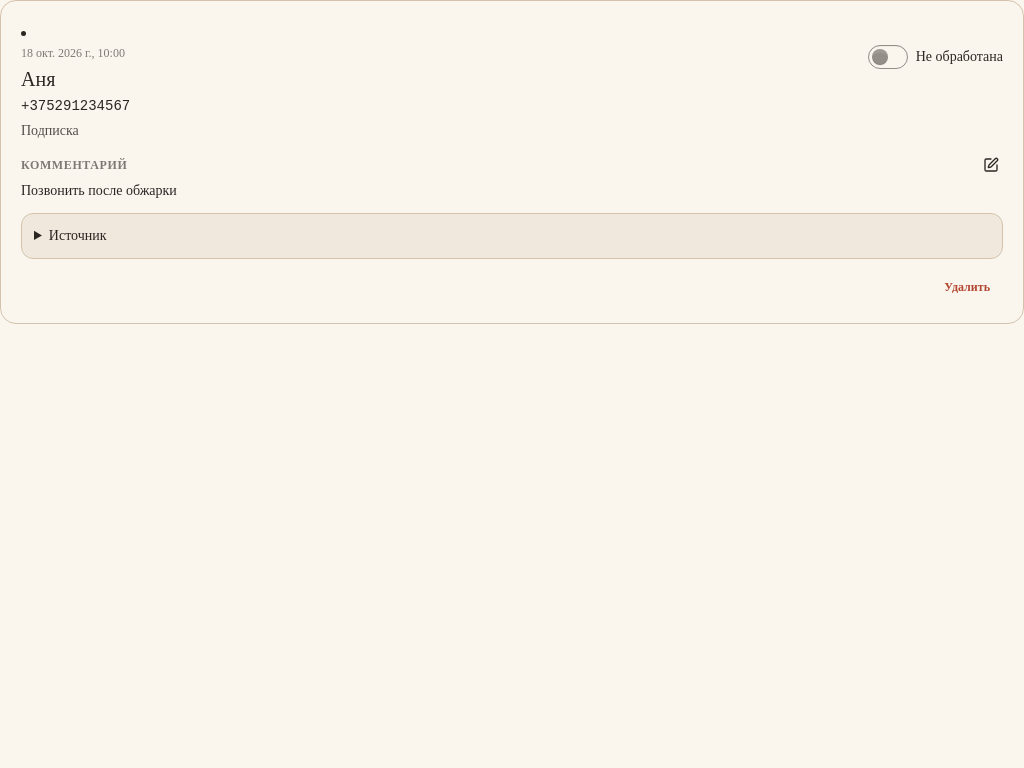
it: LeadCard › saves an edited comment from the modal
Click the button named "Редактировать комментарий" at (991, 165), box [979,153,1003,177]
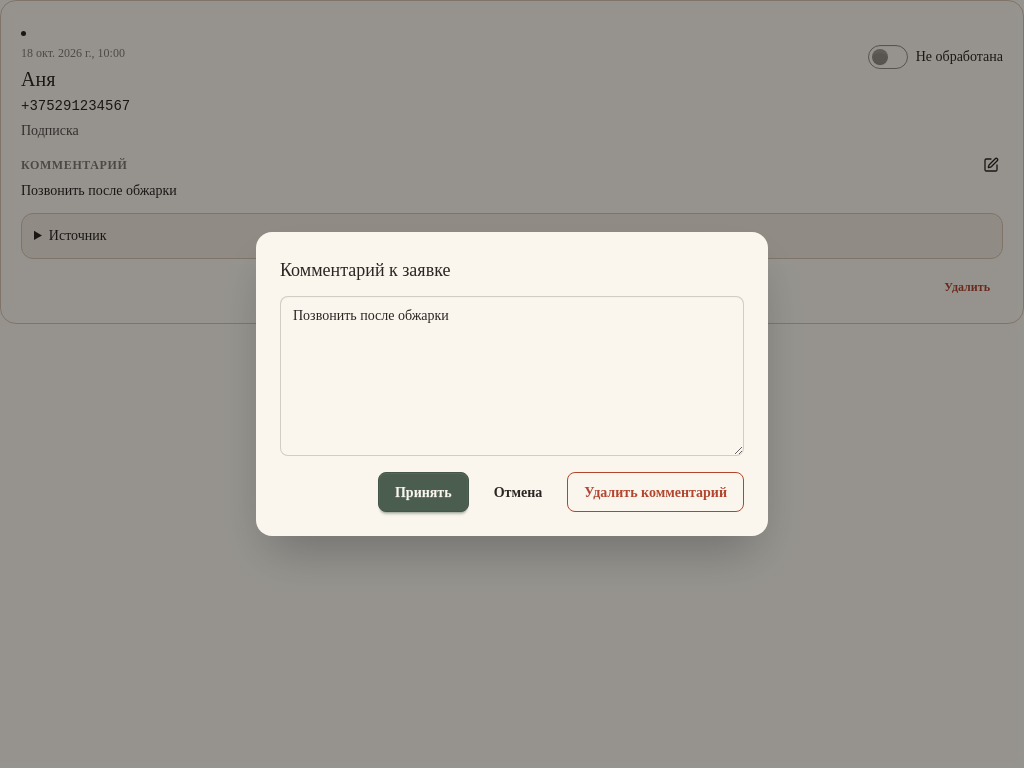
Replace the text in the text box named "Комментарий" with "свежий контакт" at (512, 376), box [280,296,744,456]
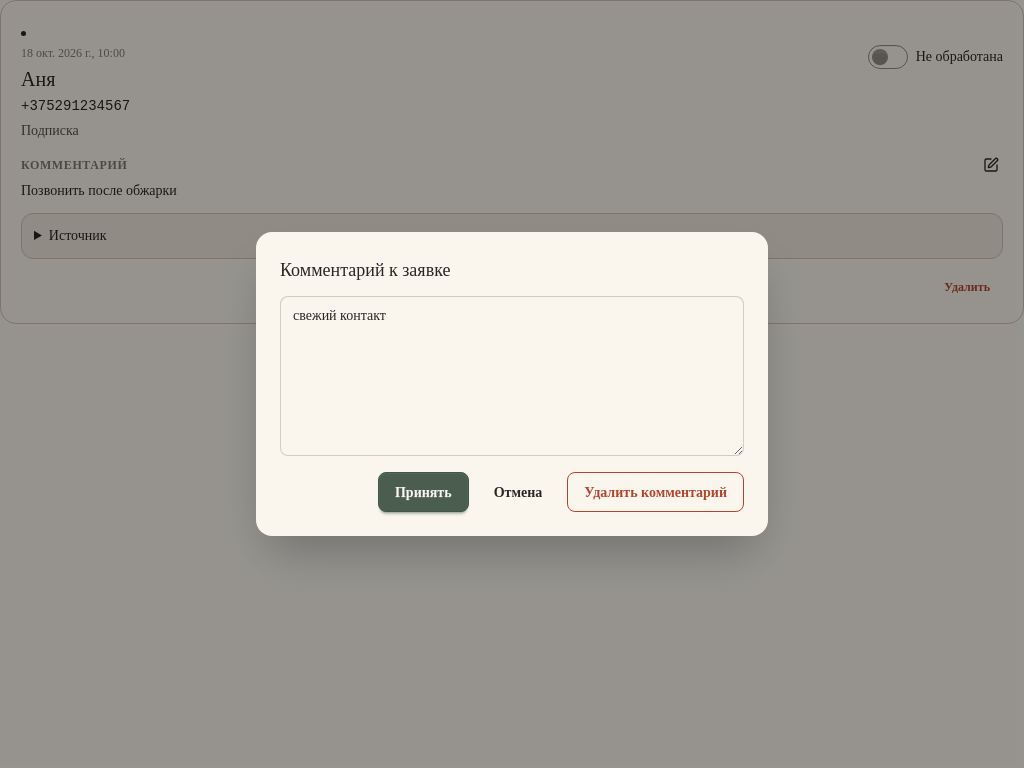
Click the button "Принять" at (423, 492), box [378,472,469,512]
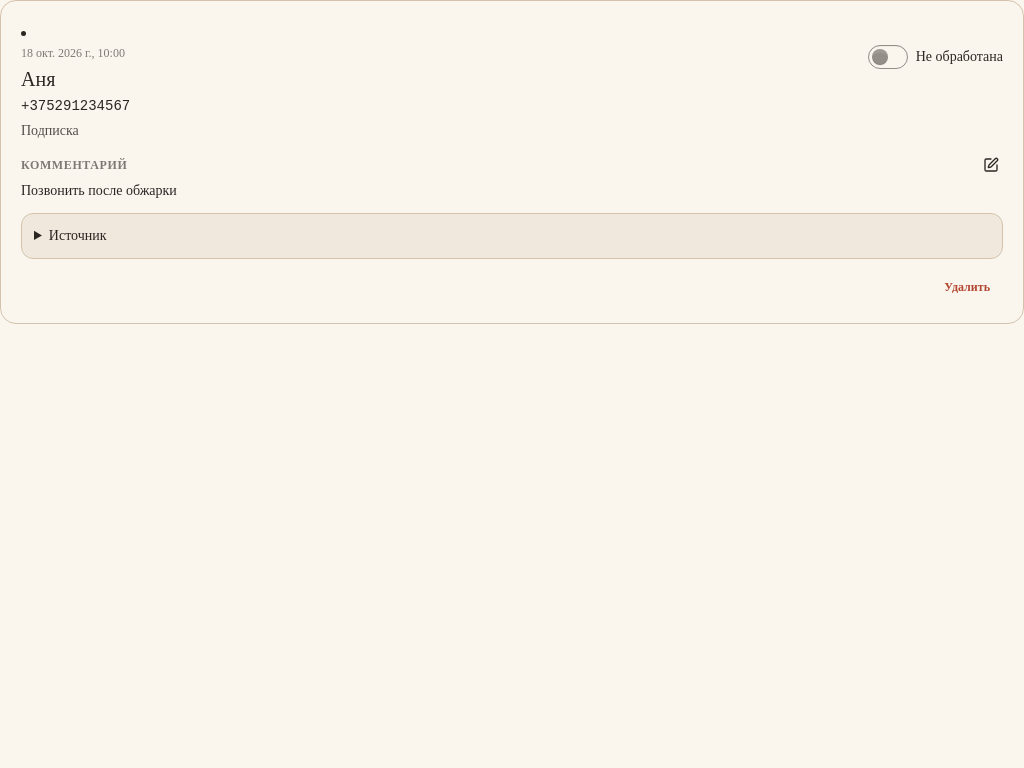
Expected: the dialog is gone
